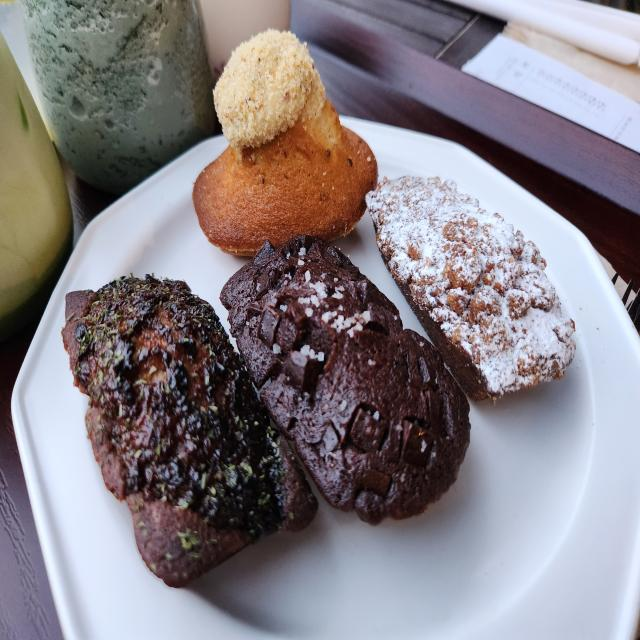Plate: (10, 114, 639, 639)
